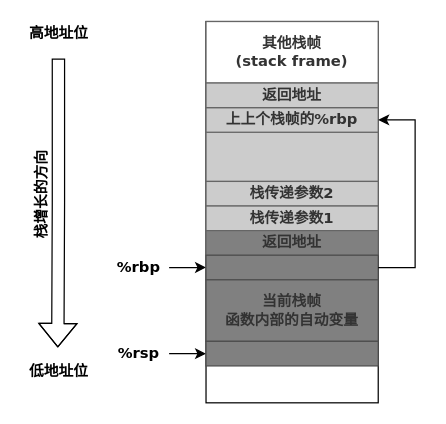
The diagram is 446 pixels wide and 424 high, and some of its shapes have lost their labels. Each missing label, with the centre of its shape:
"上一个栈帧" goes at [291,156].
"上一个栈帧的%rbp" goes at [291,267].
"栈顶" goes at [291,353].
